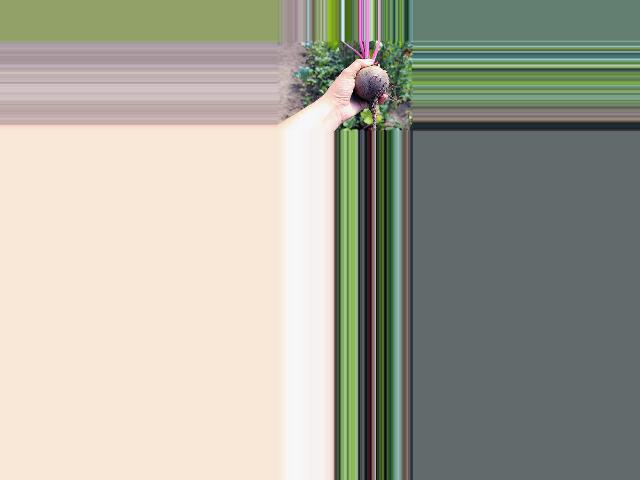beet: (340, 40, 403, 131)
